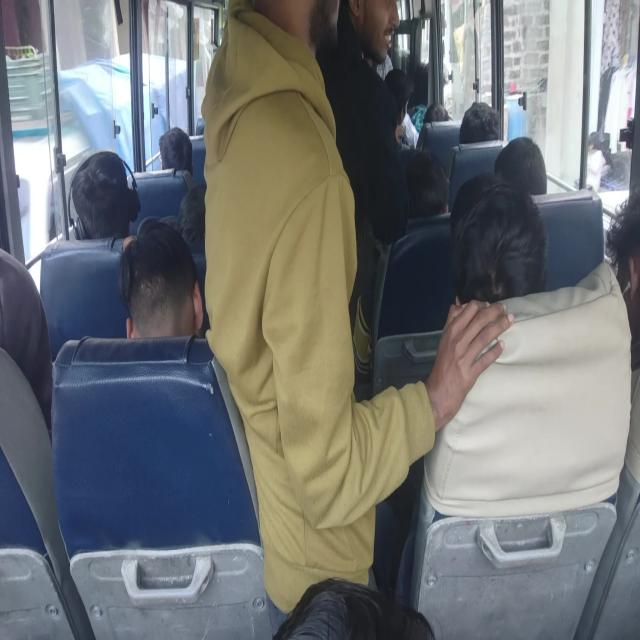person: (206, 6, 326, 164), (325, 0, 409, 208), (448, 177, 548, 311), (274, 577, 467, 640), (0, 239, 54, 434), (119, 223, 202, 342), (608, 183, 640, 376), (69, 154, 139, 238), (148, 125, 199, 228), (494, 136, 548, 199), (398, 158, 446, 224), (458, 101, 502, 146)
